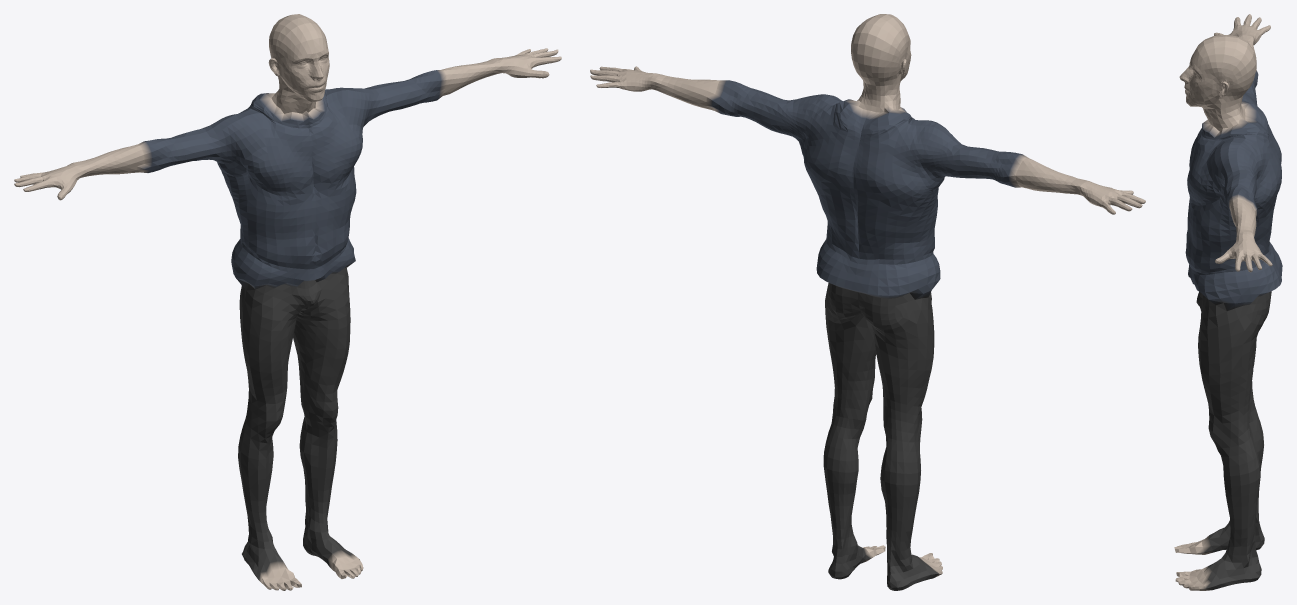
File: test_oversized2.glb
3 renders of one model, left to right at view 1: azimuth 30°, elevation 25°; view 2: azimuth 150°, elevation 25°; view 3: azimuth 270°, elevation 25°, orthographic. The views are drawn at different scales.
Visible parts, largest first — view 1: world; view 2: world; view 3: world.
Part boxes in pixels (<box>): world: <box>14,14,561,590</box>; world: <box>590,14,1145,590</box>; world: <box>1174,14,1282,590</box>.
Bounding box in the file's own units: 1.86 × 1.8 × 0.3316.
